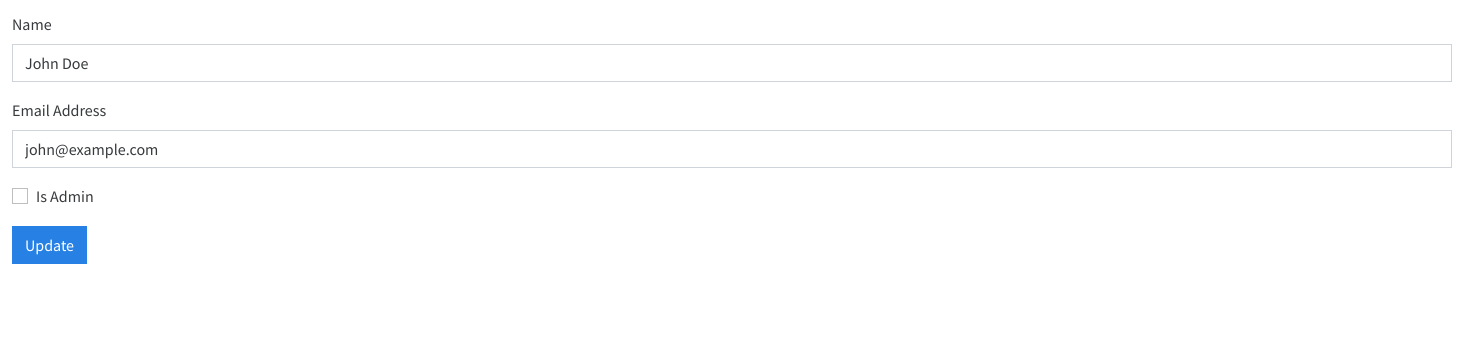
Test: edit an user
Expected: the checkbox with test id "is-admin" is shown, [12,188,28,204]
Expected: the field showing "john@example.com" is shown, [12,130,1452,168]
Clear the field showing "John Doe" at (732, 63), box [12,44,1452,82]
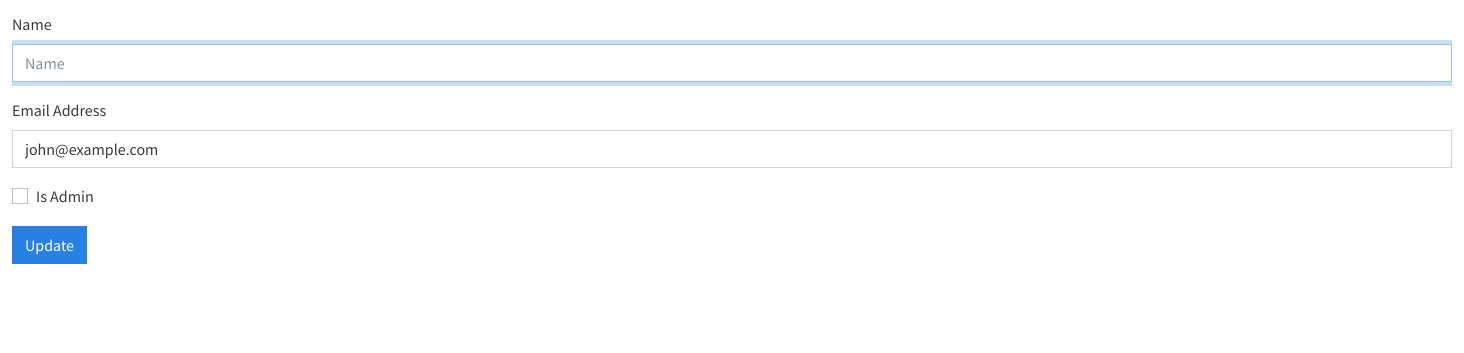
Clear the field showing "john@example.com" at (732, 149), box [12,130,1452,168]
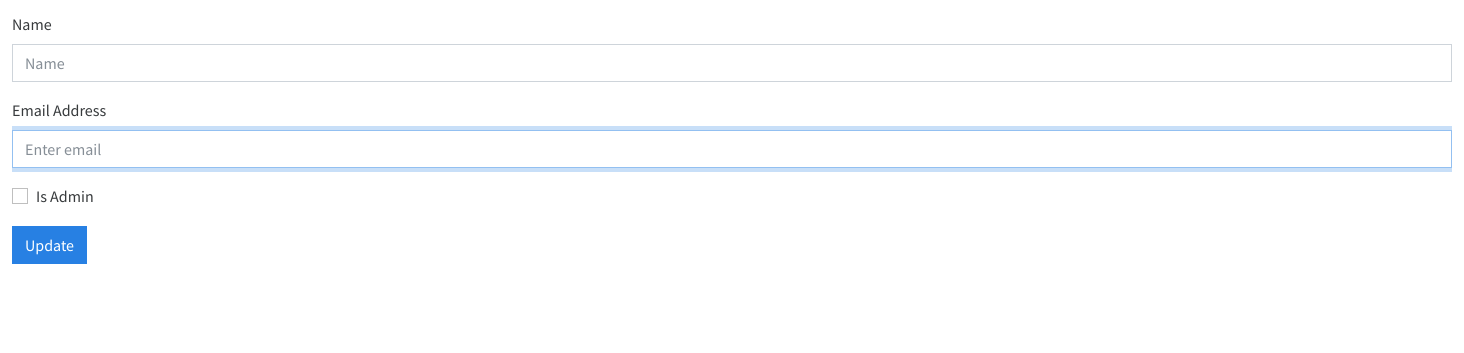
Type "foo" into the field showing "John Doe".
click(732, 63); type("foo")  # box [12,44,1452,82]
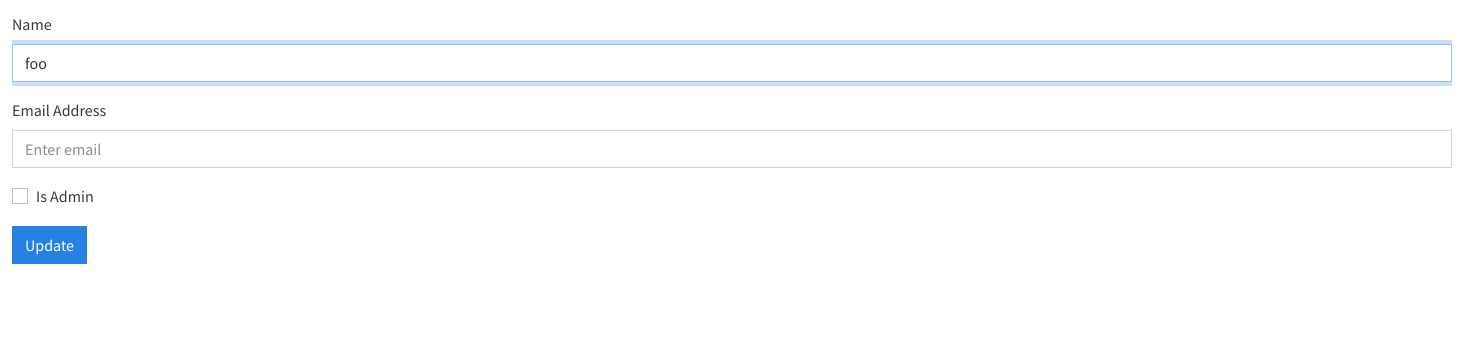
Type "foo@bar.com" into the field showing "john@example.com".
click(732, 149); type("foo@bar.com")  # box [12,130,1452,168]
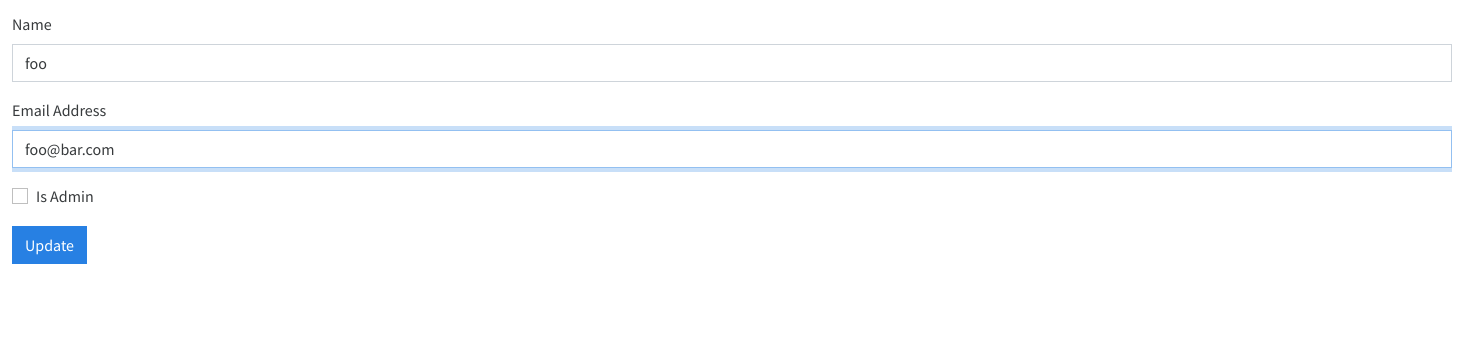
Submit the form with test id "form"
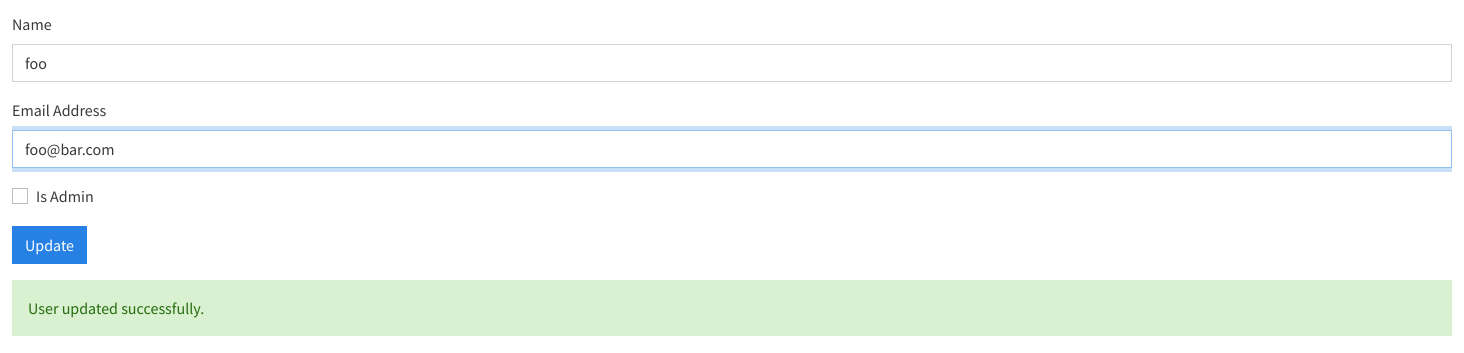
Expected: the text "User updated successfully." is shown, [12,280,1452,336]
